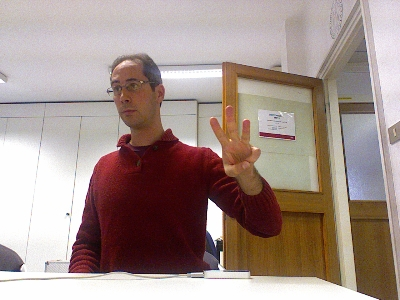三分: (208, 103, 261, 181)
